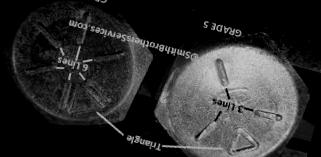screw: (135, 8, 321, 157), (0, 0, 168, 144)
